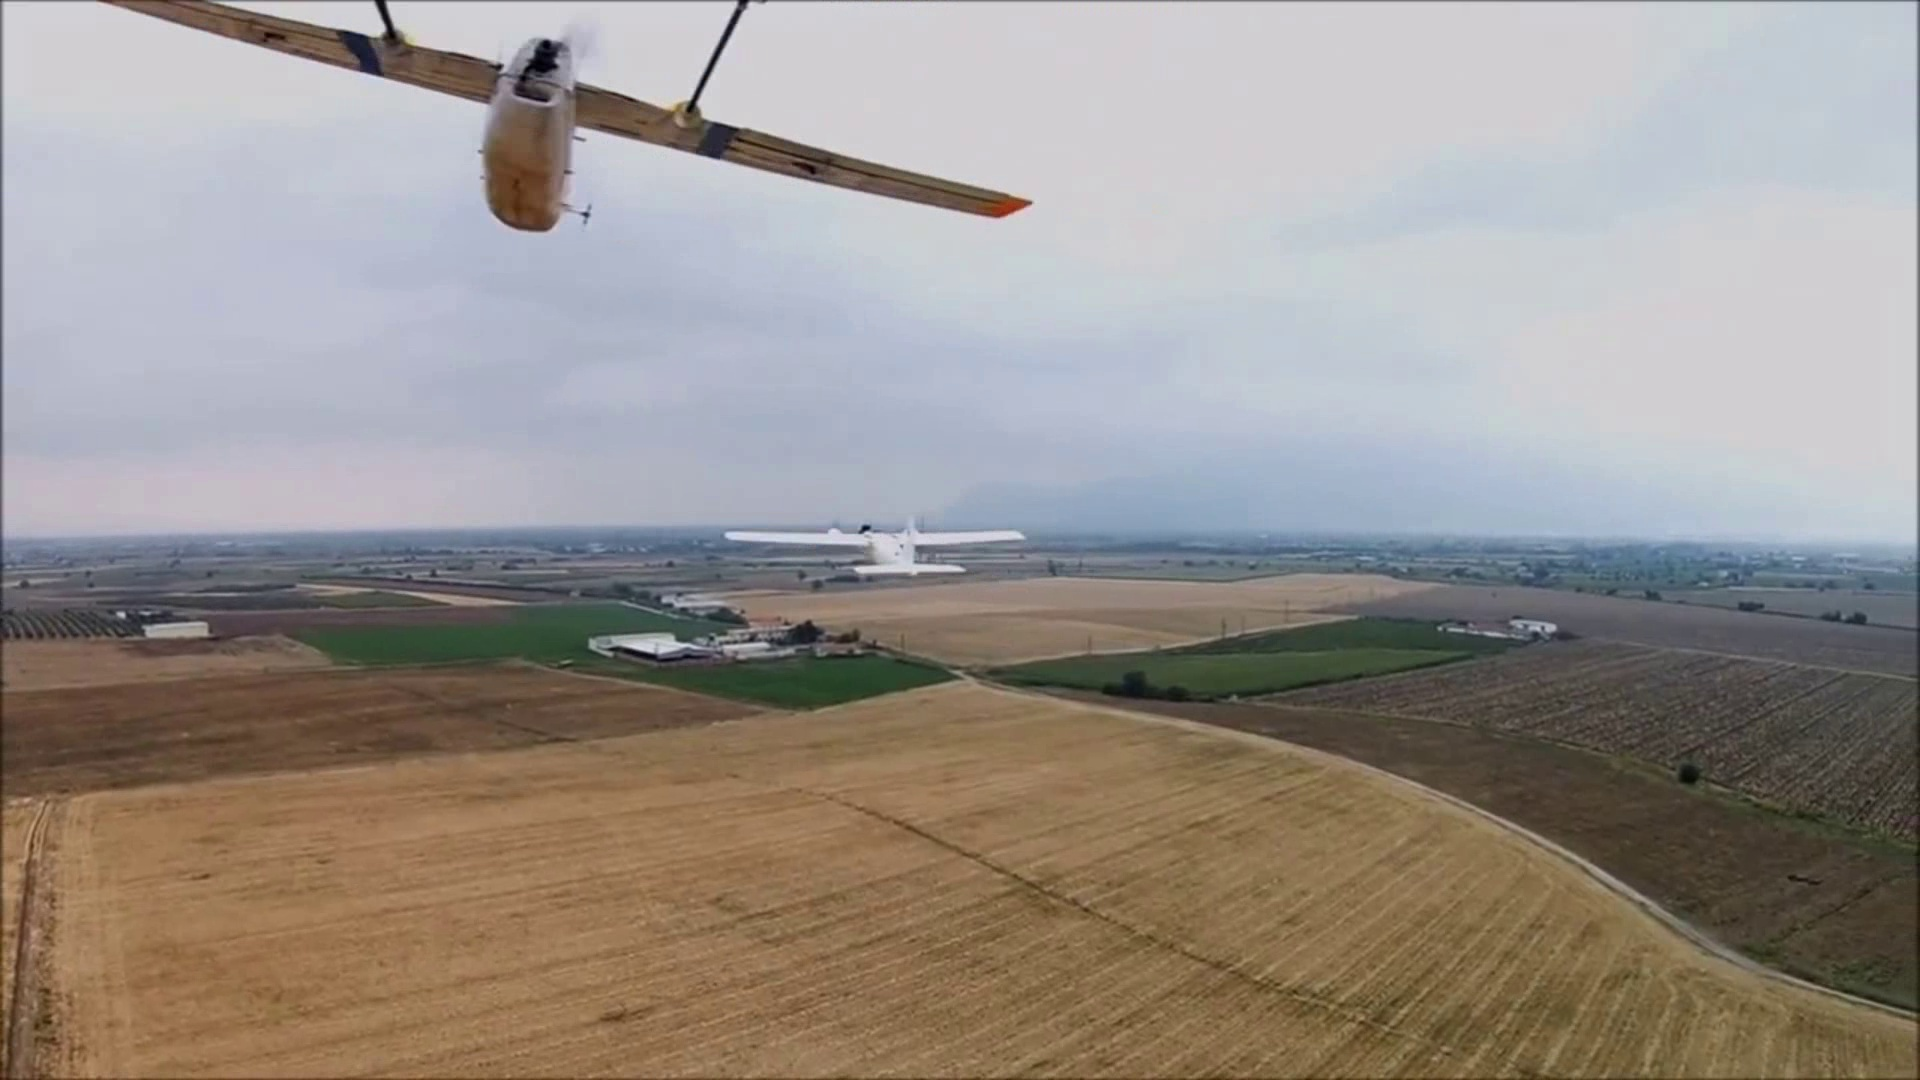airplane: (95, 3, 1036, 237)
